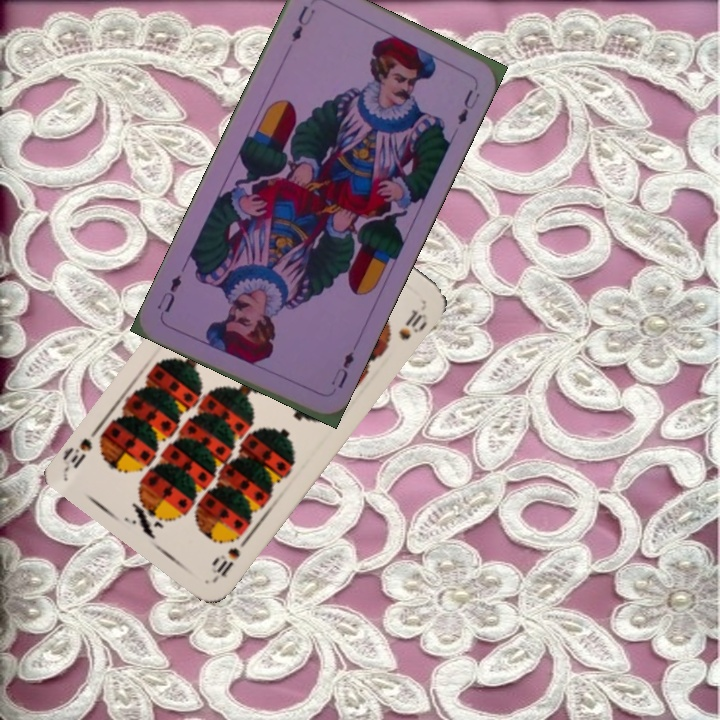EU: (287, 1, 318, 45), (327, 347, 357, 391)
S10: (208, 533, 252, 583)
